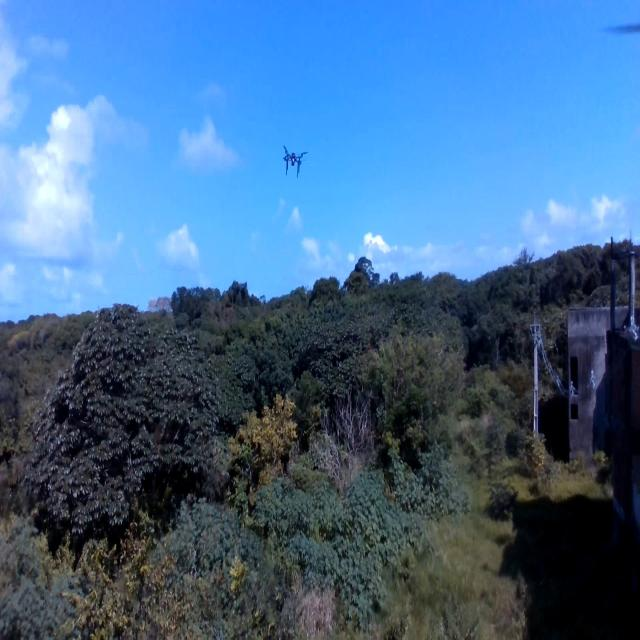-uav-: (276, 136, 312, 182)
